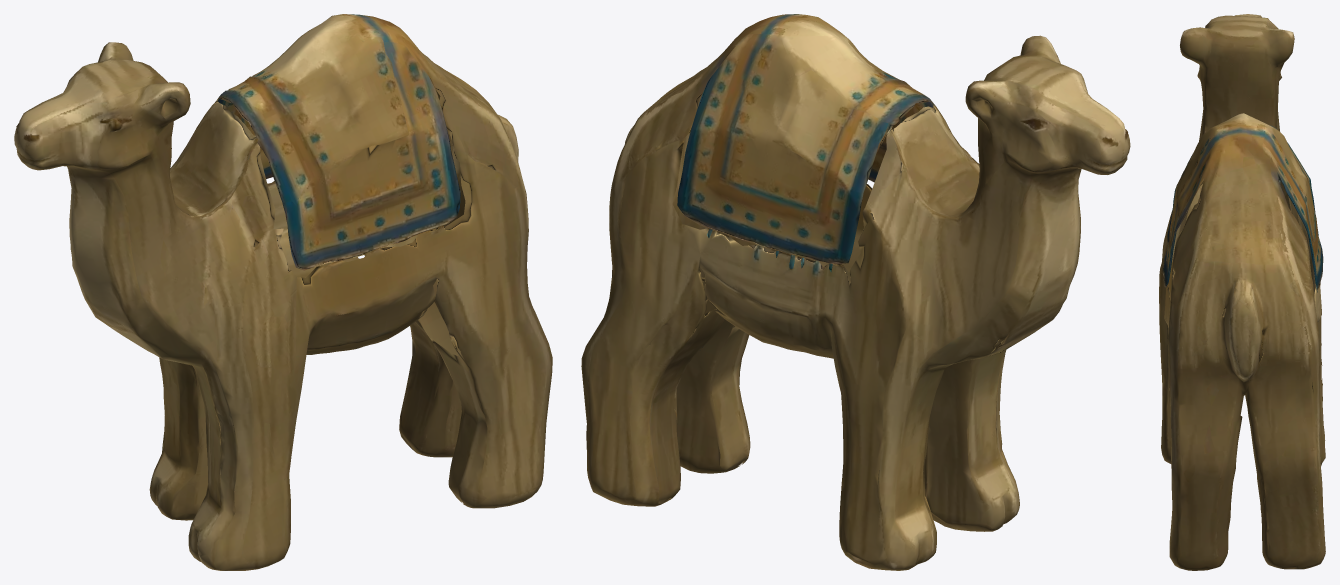
File: camel.glb
3 renders of one model, left to right at view 1: azimuth 30°, elevation 25°; view 2: azimuth 150°, elevation 25°; view 3: azimuth 270°, elevation 25°, orthographic. The views are drawn at different scales.
Visible parts, largest first — view 1: geometry_0; view 2: geometry_0; view 3: geometry_0.
Boxes of the visible parts, x1,y1,x2,y2 form: geometry_0: [14, 14, 552, 570]; geometry_0: [581, 14, 1130, 570]; geometry_0: [1159, 14, 1325, 570].
Bounding box in the file's own units: 0.9225 × 0.8848 × 0.329.
Materials: 1 (1 with a texture image).
